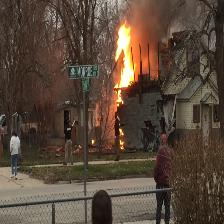fire: (116, 20, 134, 87)
